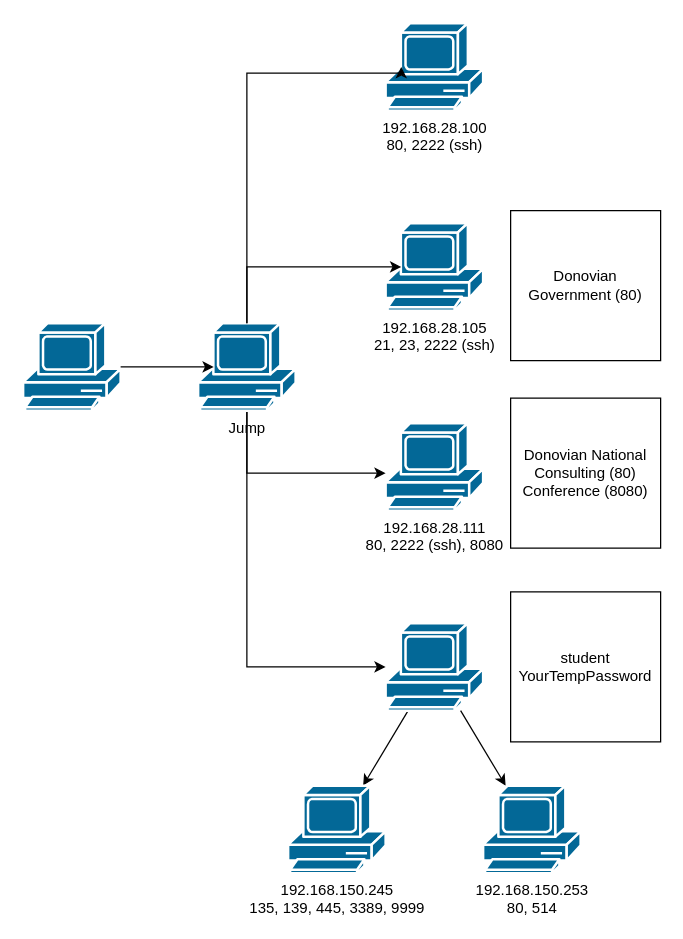
The diagram is 683 pixels wide and 939 high, and some of its shapes have lost their labels. Here are the shapes that lost their labels. From the top down, the centre of each, then its label:
[71,366]: OPS
[434,666]: grey 192.168.28.120 4242 (ssh)
